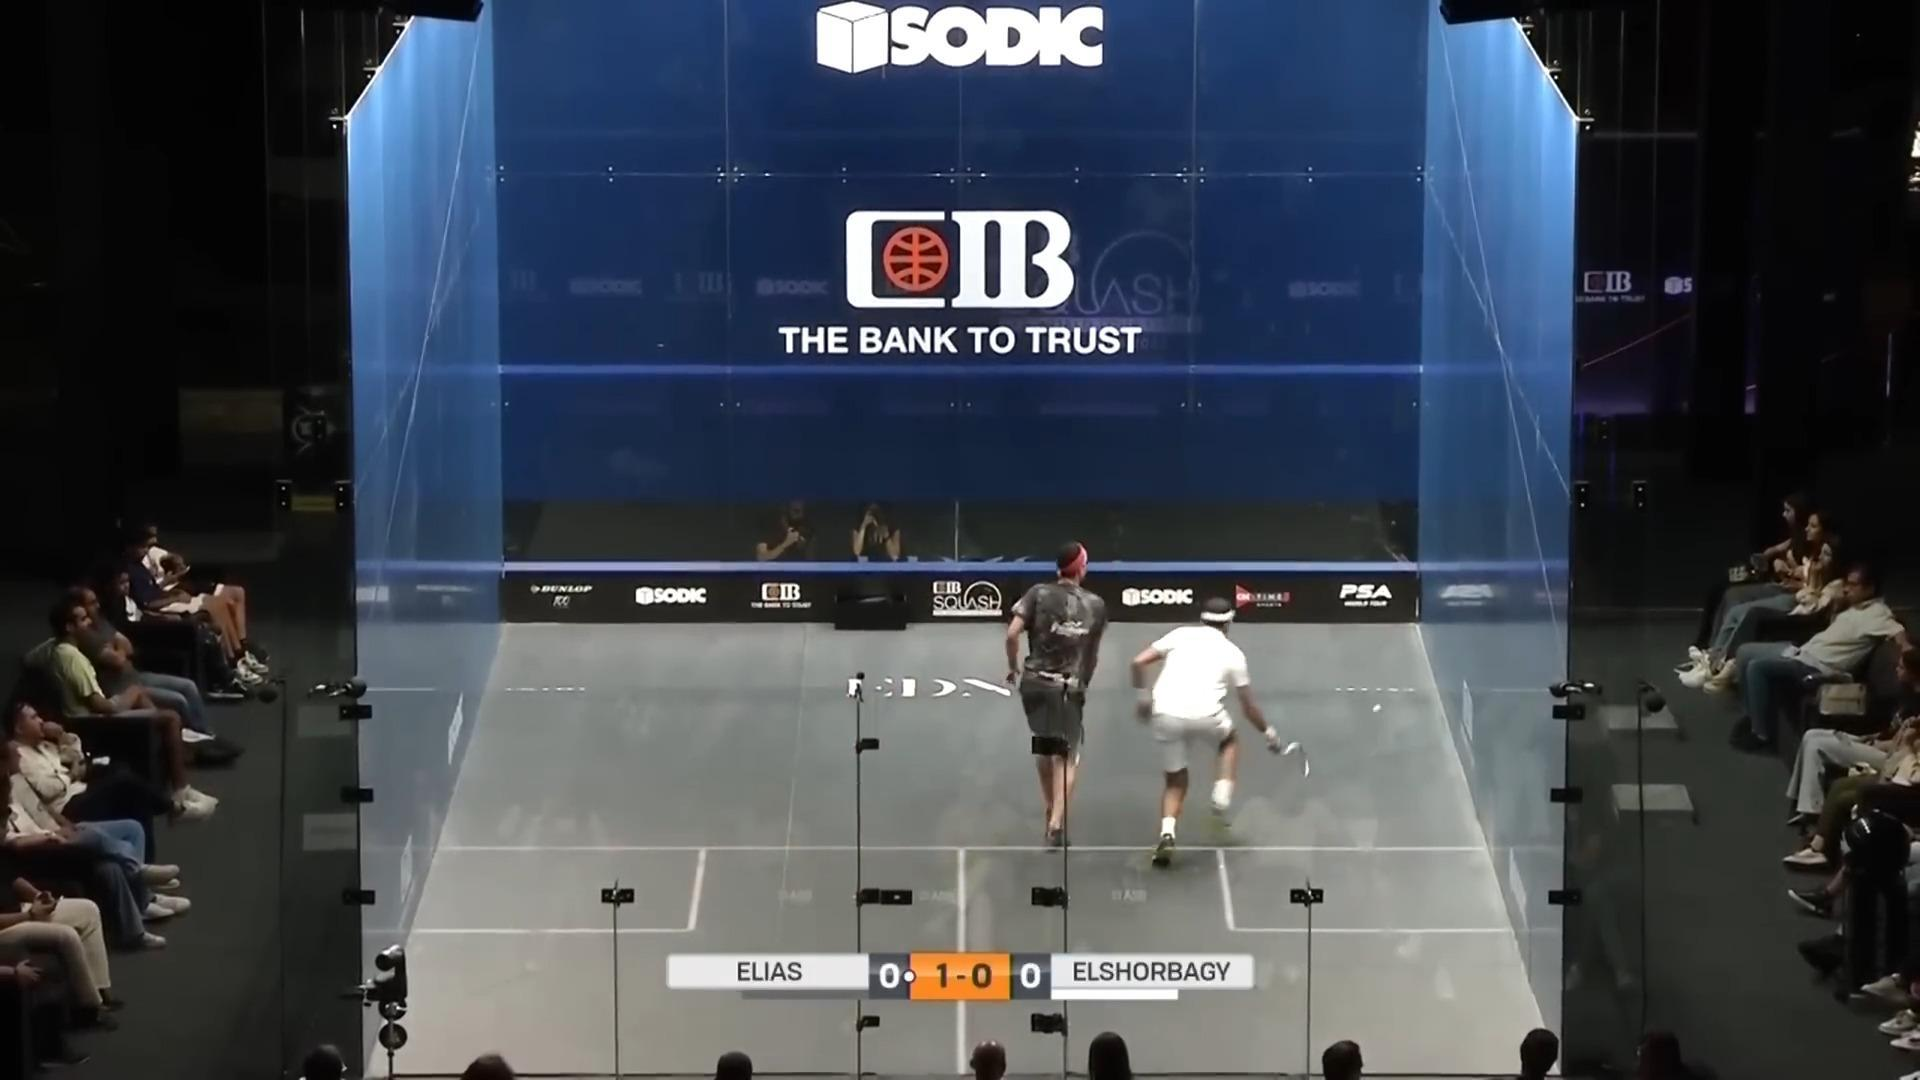Squash-Ball: (1362, 687, 1391, 732)
